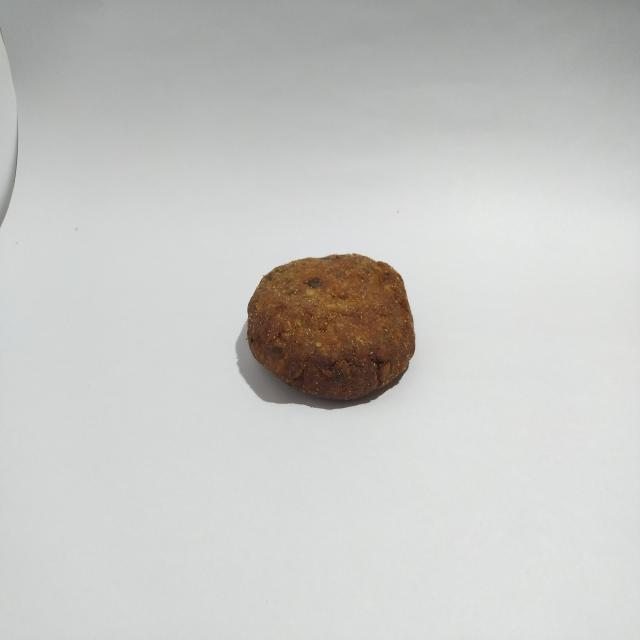Pajagua: (240, 248, 424, 410)
